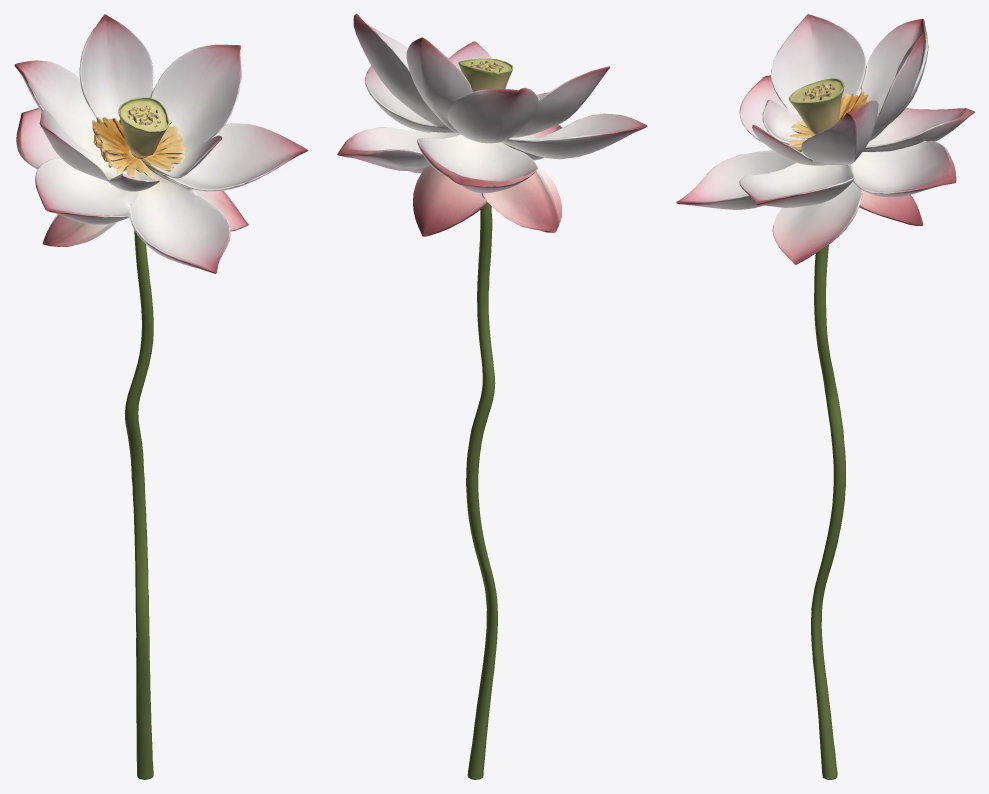
File: lotus-bloom.glb
3 renders of one model, left to right at view 1: azimuth 30°, elevation 25°; view 2: azimuth 150°, elevation 25°; view 3: azimuth 270°, elevation 25°, orthographic. The views are drawn at different scales.
Visible parts, largest first — view 1: lotus-bloom; view 2: lotus-bloom; view 3: lotus-bloom.
Part boxes in pixels (x1=…): lotus-bloom: x1=14, y1=14, x2=308, y2=779; lotus-bloom: x1=337, y1=14, x2=647, y2=779; lotus-bloom: x1=676, y1=14, x2=974, y2=779.
Size of the model in its own units: 0.61 by 1.65 by 0.5992.
1 material, 1 textured.
